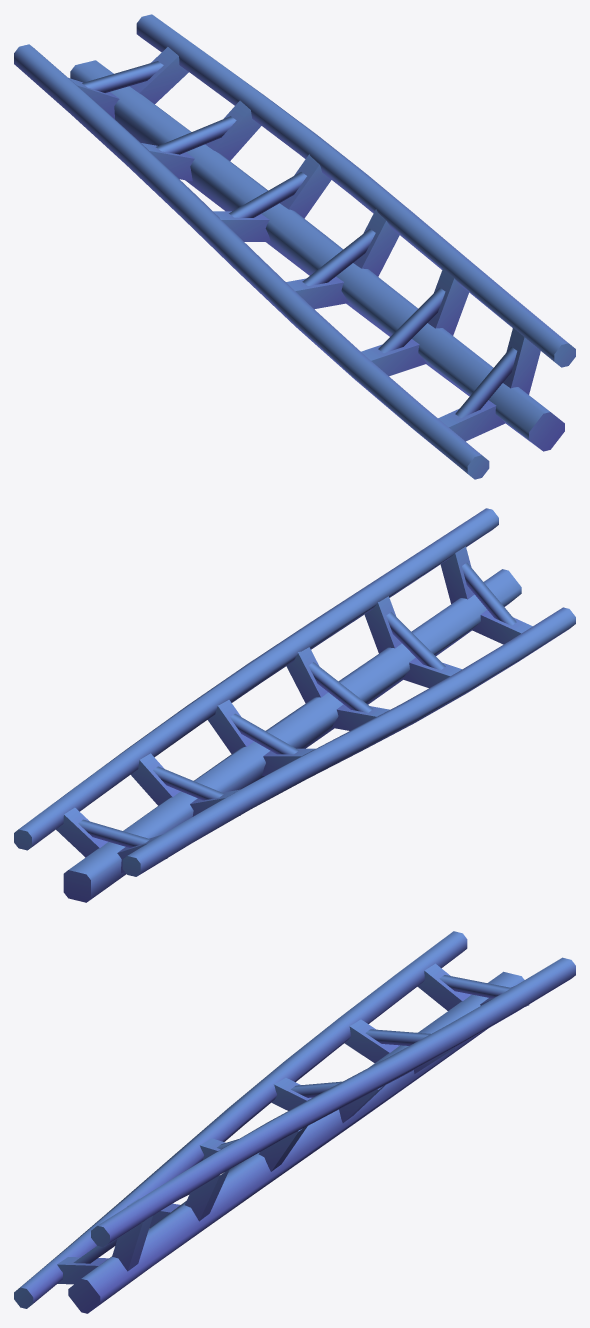
File: kenney-coaster-coaster-steel-straight-skew-right.glb
The picture shows the model from 3 angles, top to bottom: view 1: azimuth 30°, elevation 25°; view 2: azimuth 150°, elevation 25°; view 3: azimuth 330°, elevation 25°; orthographic projection. The views are drawn at different scales.
Visible parts, largest first — view 1: coaster-steel-straight-skew-right; view 2: coaster-steel-straight-skew-right; view 3: coaster-steel-straight-skew-right.
Part boxes in pixels (left/top/right/bottom): coaster-steel-straight-skew-right: left=14, top=14, right=575, bottom=479; coaster-steel-straight-skew-right: left=14, top=508, right=575, bottom=902; coaster-steel-straight-skew-right: left=14, top=931, right=575, bottom=1313.
Size of the model in its own units: 0.7945 by 0.5303 by 4.
1 material, 1 textured.
